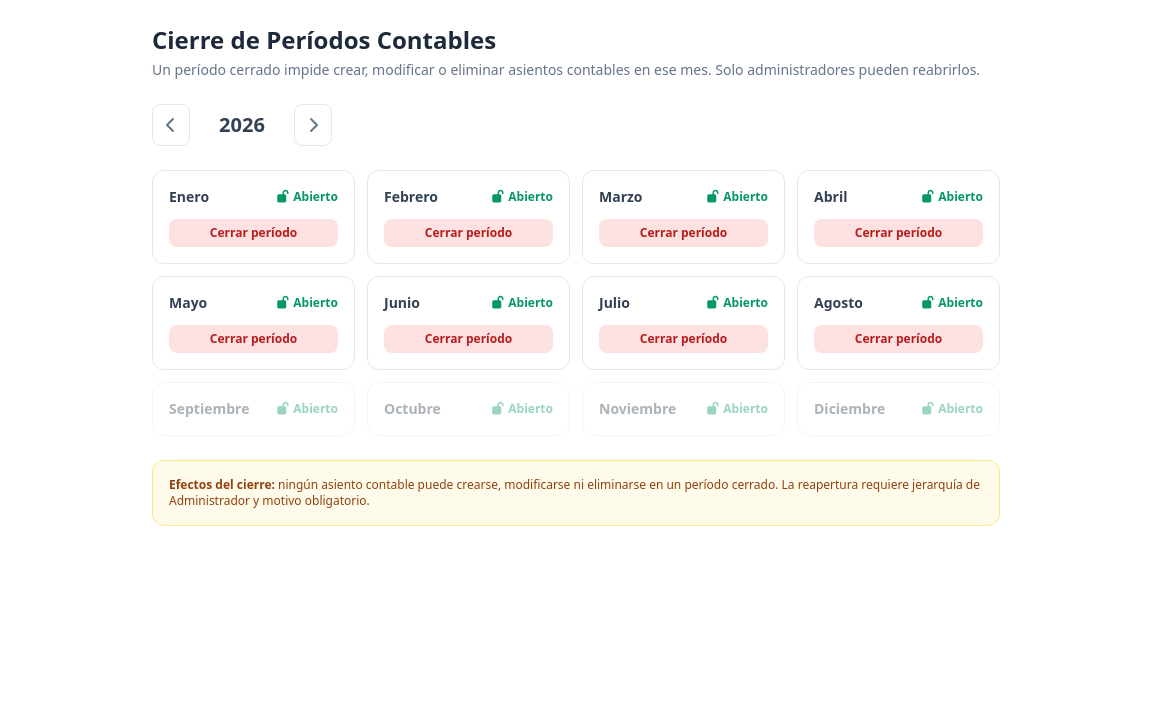
Test: CierrePeriodo — modal cerrar › cierra el modal al cancelar
What coordinates should you click on to do the following:
click the button "Cerrar período" below "Enero"
I would click on:
 (254, 233)
Its box is [169,219,338,247].
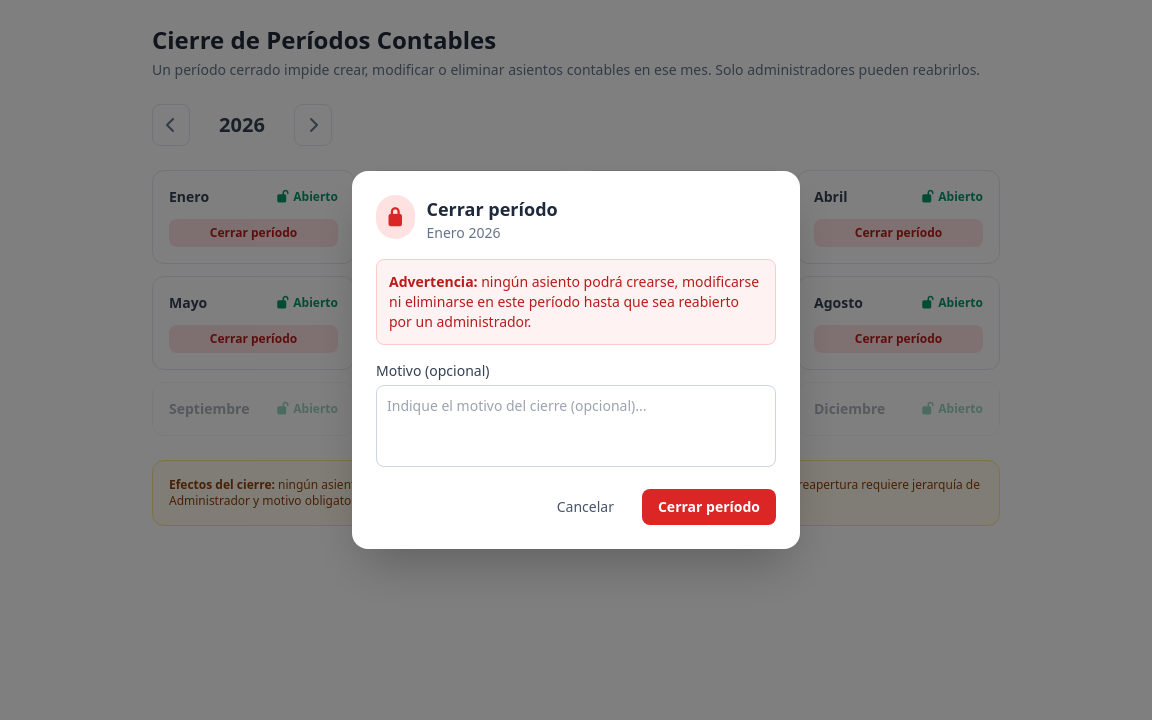
Expected: the button "Cancelar" is shown
What coordinates should you click on to do the following:
click the button "Cancelar"
I would click on:
 (585, 507)
Its box is [541,489,630,525].
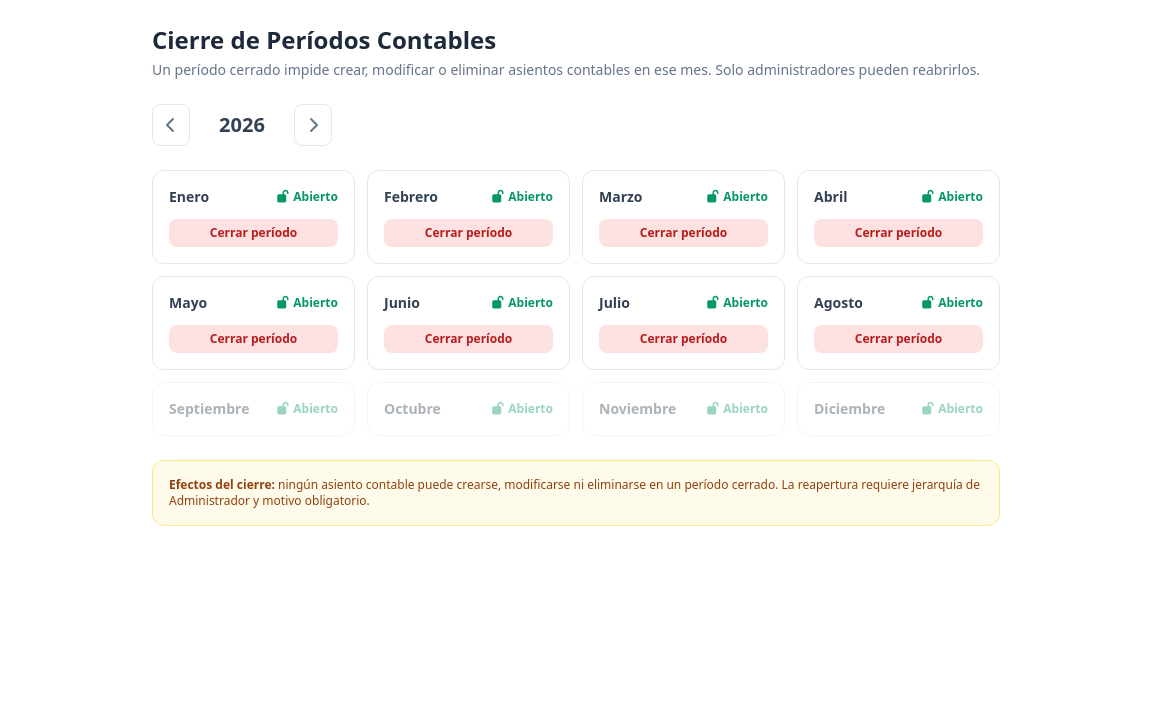
Expected: the text "Advertencia" is gone
